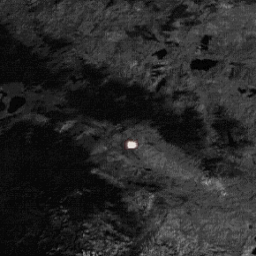Target: (124, 140, 137, 150)
